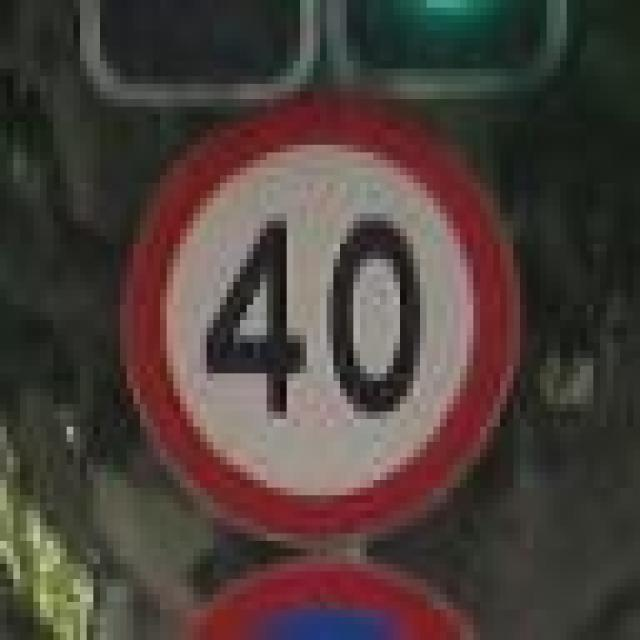speed limit 40: (116, 101, 518, 540)
